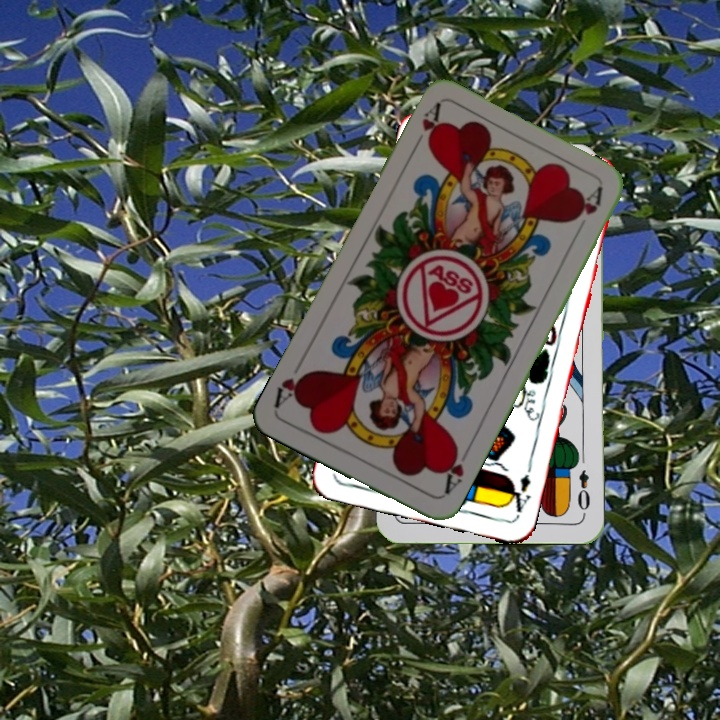EA: (503, 470, 533, 515)
EO: (573, 466, 593, 513)
HA: (408, 100, 444, 155), (438, 441, 467, 499)
